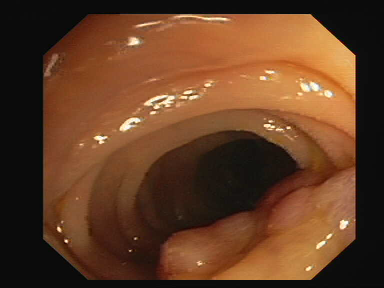polyp: (151, 165, 349, 270)
